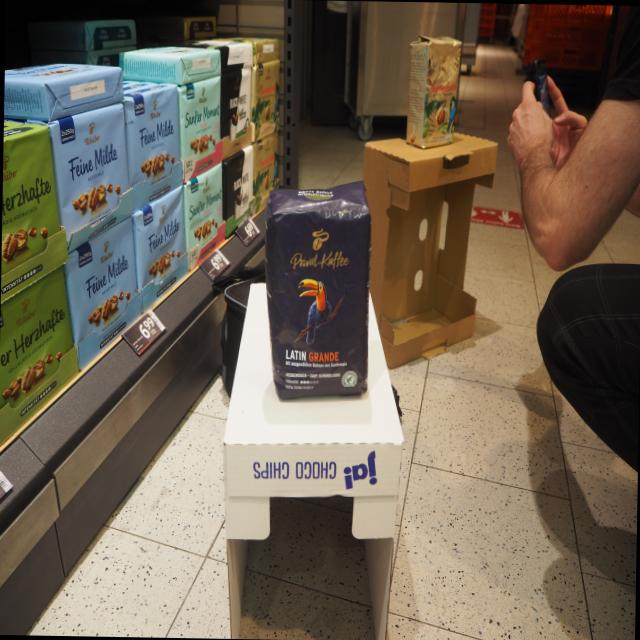LG Bohne: (257, 176, 375, 406)
